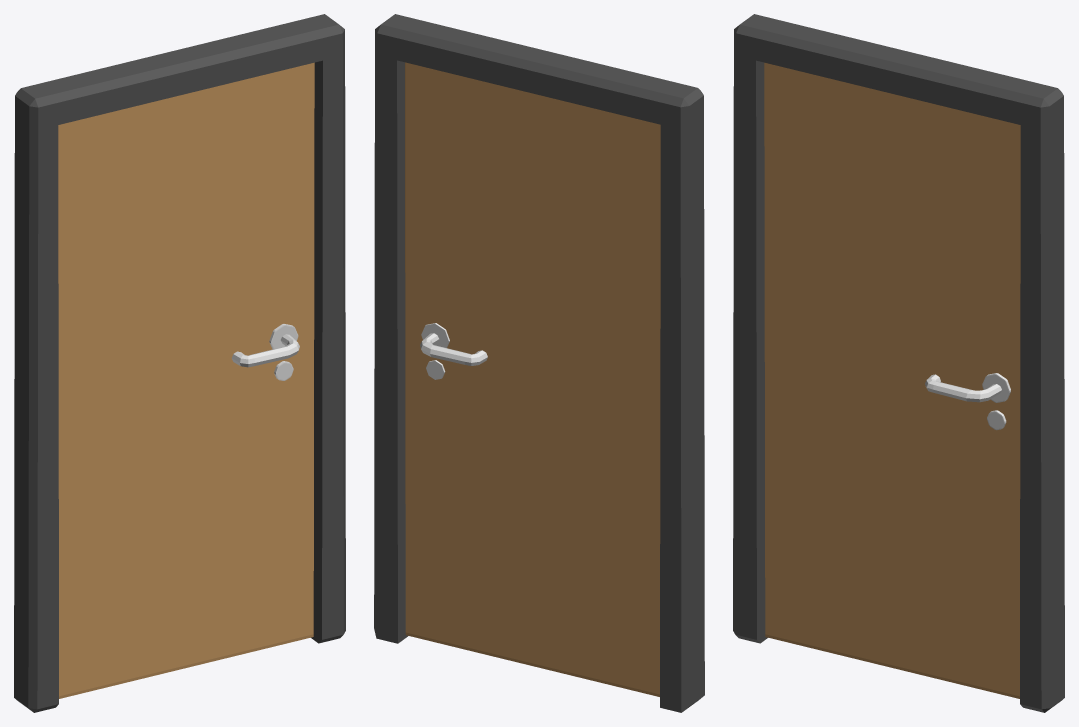
File: Door.fbx
3 views of the same model, side by side, from view 1: azimuth 30°, elevation 25°; view 2: azimuth 150°, elevation 25°; view 3: azimuth 330°, elevation 25° (orthographic).
Visible parts, largest first — view 1: Door, Door Frame; view 2: Door, Door Frame; view 3: Door, Door Frame.
Boxes of the visible parts, <box> form: Door: <box>58,62,314,698</box>; Door Frame: <box>14,14,345,712</box>; Door: <box>405,62,660,696</box>; Door Frame: <box>374,14,704,712</box>; Door: <box>764,62,1020,698</box>; Door Frame: <box>733,14,1064,712</box>.
Bounding box in the file's own units: 831 × 1536 × 194.
